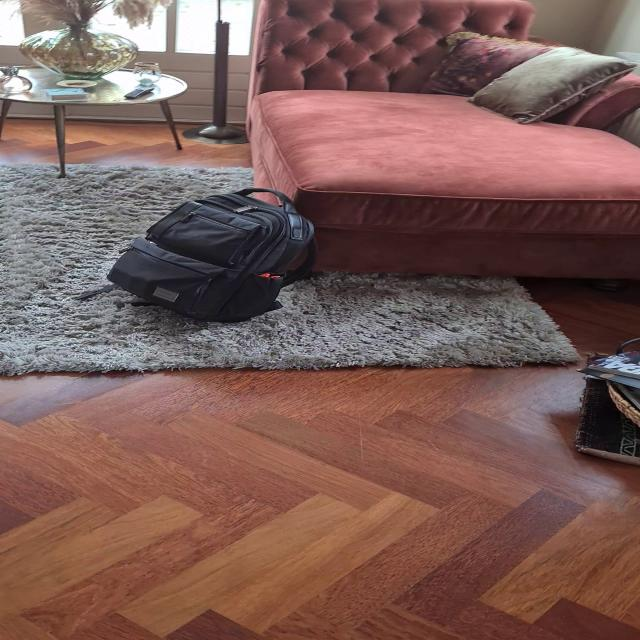backpack: (98, 184, 326, 328)
